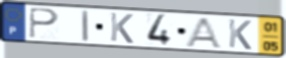4: (145, 13, 174, 48)
A: (183, 16, 225, 50)
I: (81, 9, 91, 44)
K: (108, 11, 135, 45), (227, 18, 253, 51)
P: (27, 6, 61, 40)
